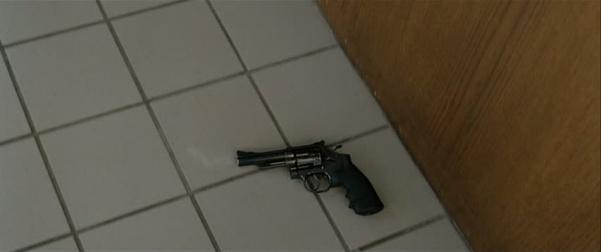Gun: (237, 144, 385, 220)
